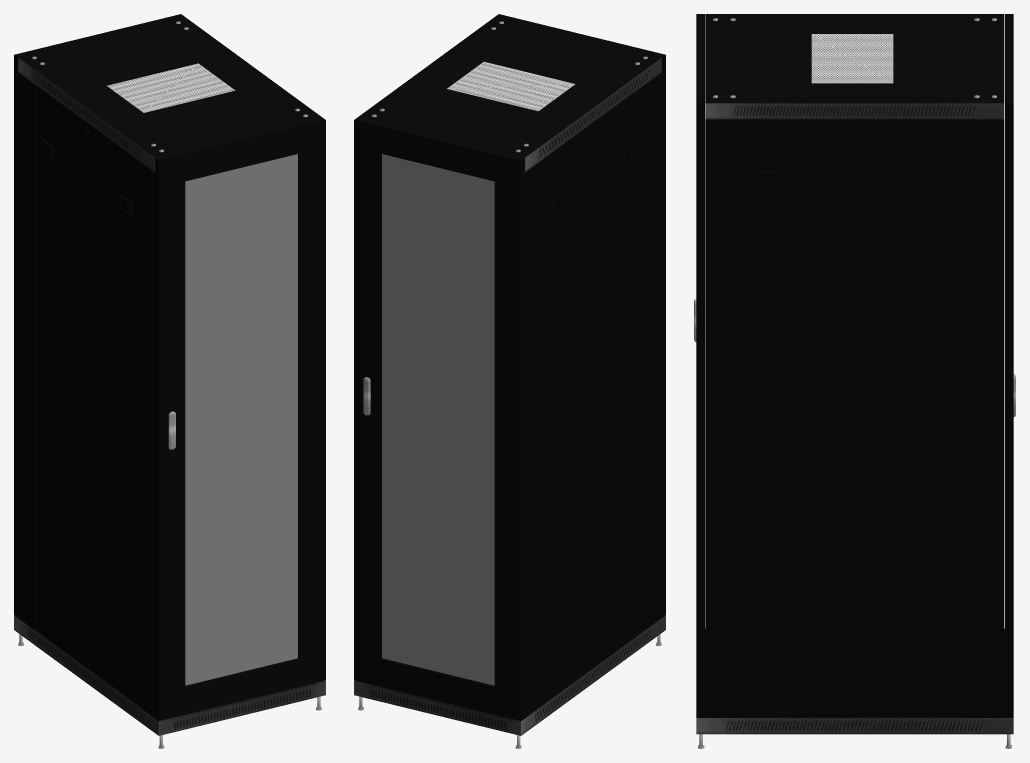
The model's file is RKAB41.fbx.
3 renders of one model, left to right at view 1: azimuth 30°, elevation 25°; view 2: azimuth 150°, elevation 25°; view 3: azimuth 270°, elevation 25°, orthographic. The views are drawn at different scales.
Parts seen in each view (by area): view 1: frontdoor, RKAB41, Box150, backdoor; view 2: backdoor, RKAB41, Box150, frontdoor; view 3: RKAB41, Box150, frontdoor, backdoor.
Boxes of the visible parts, x1,y1,x2,y2 form: frontdoor: (155, 117, 325, 720); RKAB41: (36, 85, 138, 704); Box150: (14, 17, 325, 748); backdoor: (14, 14, 184, 617); backdoor: (354, 117, 524, 720); RKAB41: (542, 85, 644, 704); Box150: (354, 17, 665, 748); frontdoor: (495, 14, 665, 617); RKAB41: (740, 119, 967, 716); Box150: (696, 14, 1013, 748); frontdoor: (694, 14, 704, 717); backdoor: (1005, 14, 1015, 717).
Bounding box in the file's own units: 610 × 2028 × 913.
6 materials, 4 textured.
